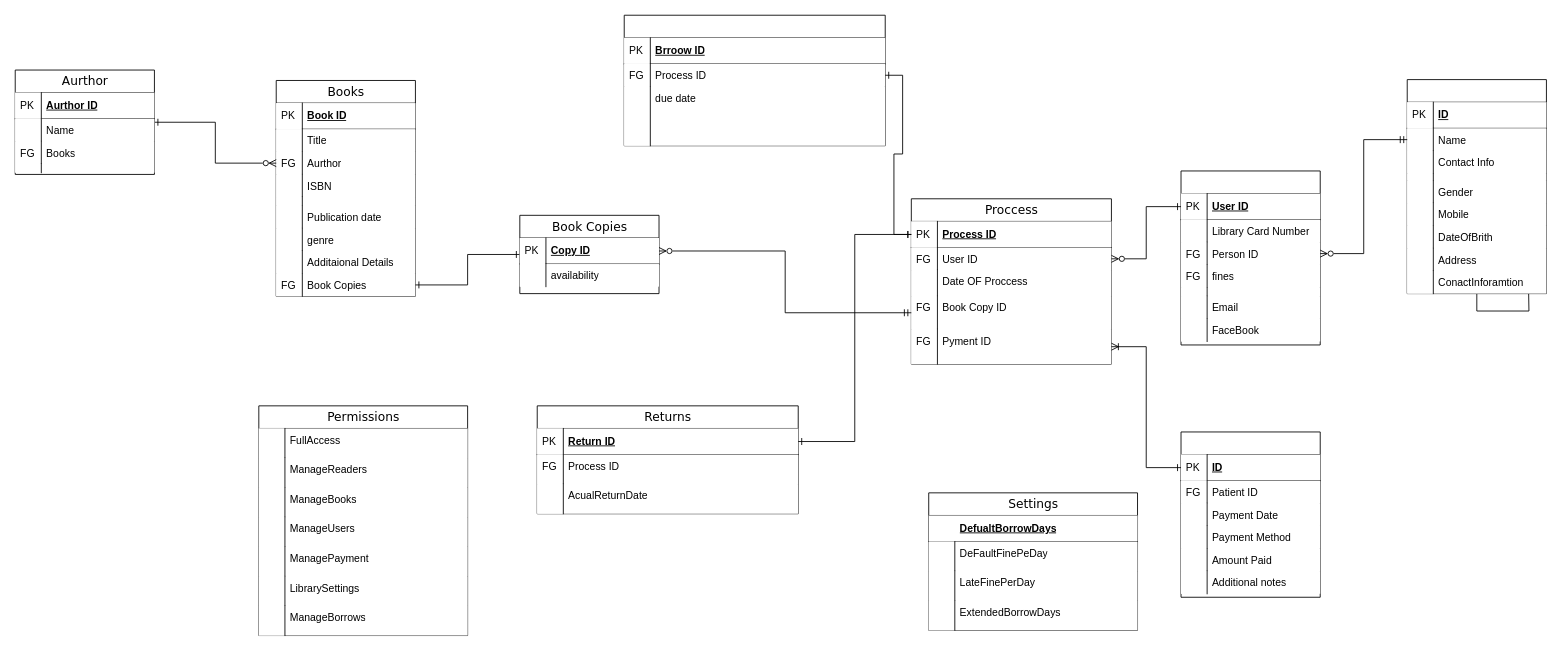
This 1562x653 diagram has some shape labels left out. Each missing label, with the box of its shape:
Borrowing: (623, 14, 885, 146)
Payments: (1180, 431, 1320, 597)
Persons: (1406, 79, 1546, 294)
Users: (1180, 170, 1320, 345)
